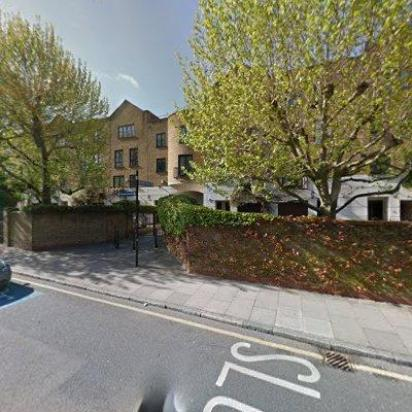stationary-car-onstreet: (0, 251, 12, 289)
